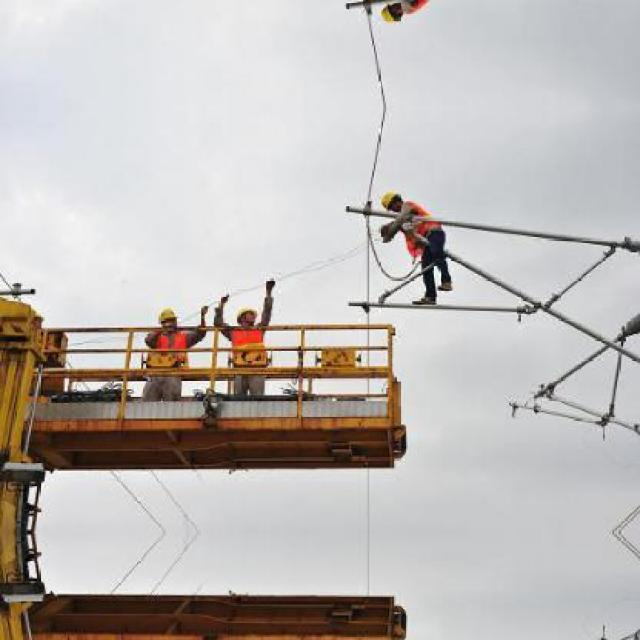Reflective-Jacket: (390, 202, 456, 269), (225, 325, 272, 369), (142, 330, 190, 372)
Safety-Helmet: (377, 184, 406, 213), (234, 298, 263, 322), (154, 302, 181, 324)
